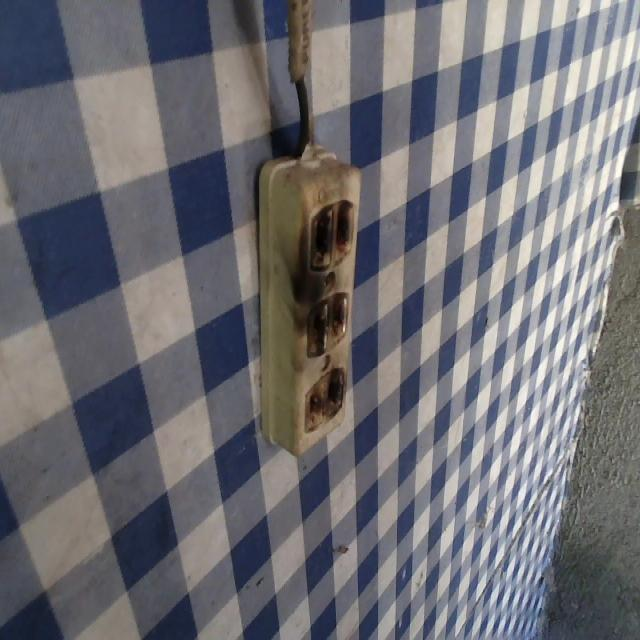-: (307, 196, 355, 272), (305, 286, 351, 354), (304, 362, 346, 430)
